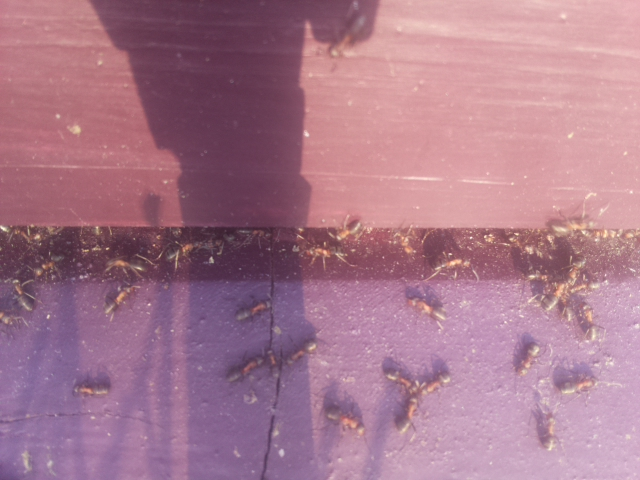ant: (318, 0, 379, 72), (317, 399, 371, 441), (526, 398, 565, 454), (217, 351, 273, 387), (400, 289, 450, 326), (520, 269, 561, 312), (540, 213, 600, 242), (281, 333, 324, 373), (68, 371, 116, 402), (327, 211, 369, 246), (515, 335, 545, 380), (101, 280, 135, 318), (393, 391, 420, 437), (576, 304, 606, 345), (418, 366, 455, 398), (139, 188, 166, 231), (559, 372, 601, 399), (232, 298, 271, 325), (9, 274, 34, 316), (35, 252, 64, 286), (432, 254, 474, 273), (565, 254, 587, 279)
